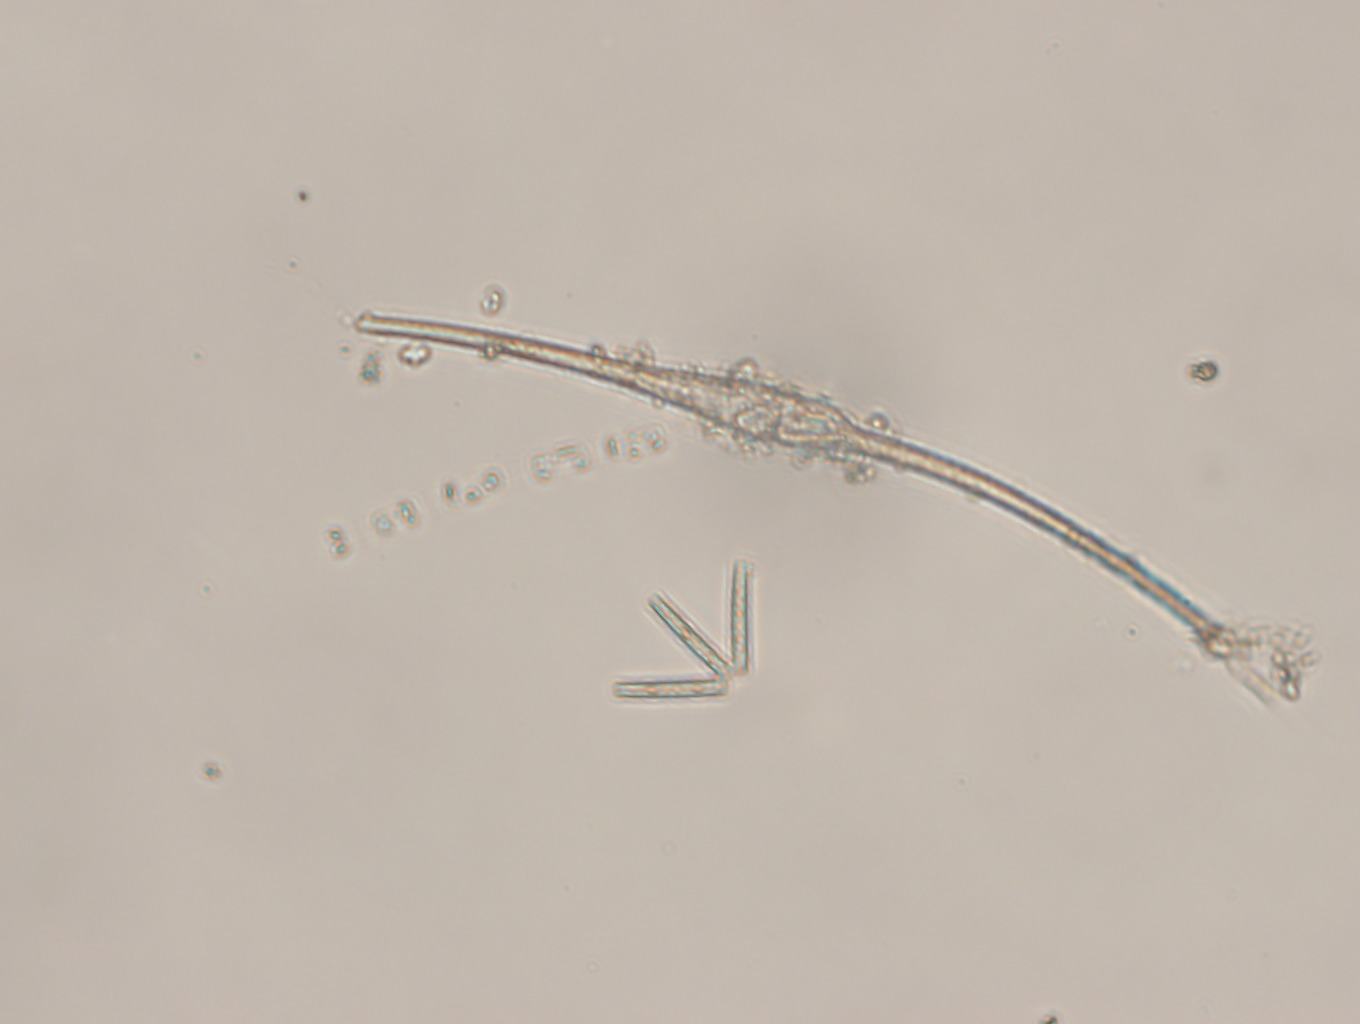ceratium fusus: (349, 303, 1240, 655)
thalassionema nitzschioides: (603, 547, 759, 703)
